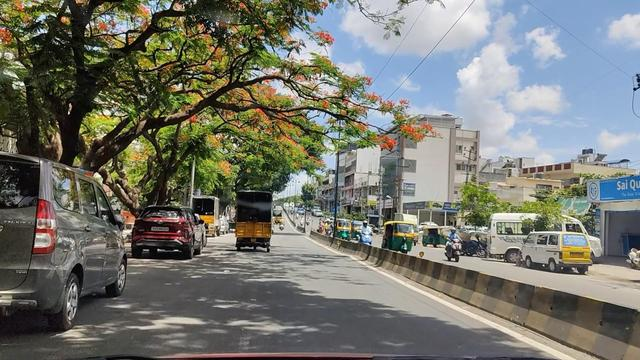HMV: (234, 189, 273, 253)
LMV: (138, 202, 193, 255)
